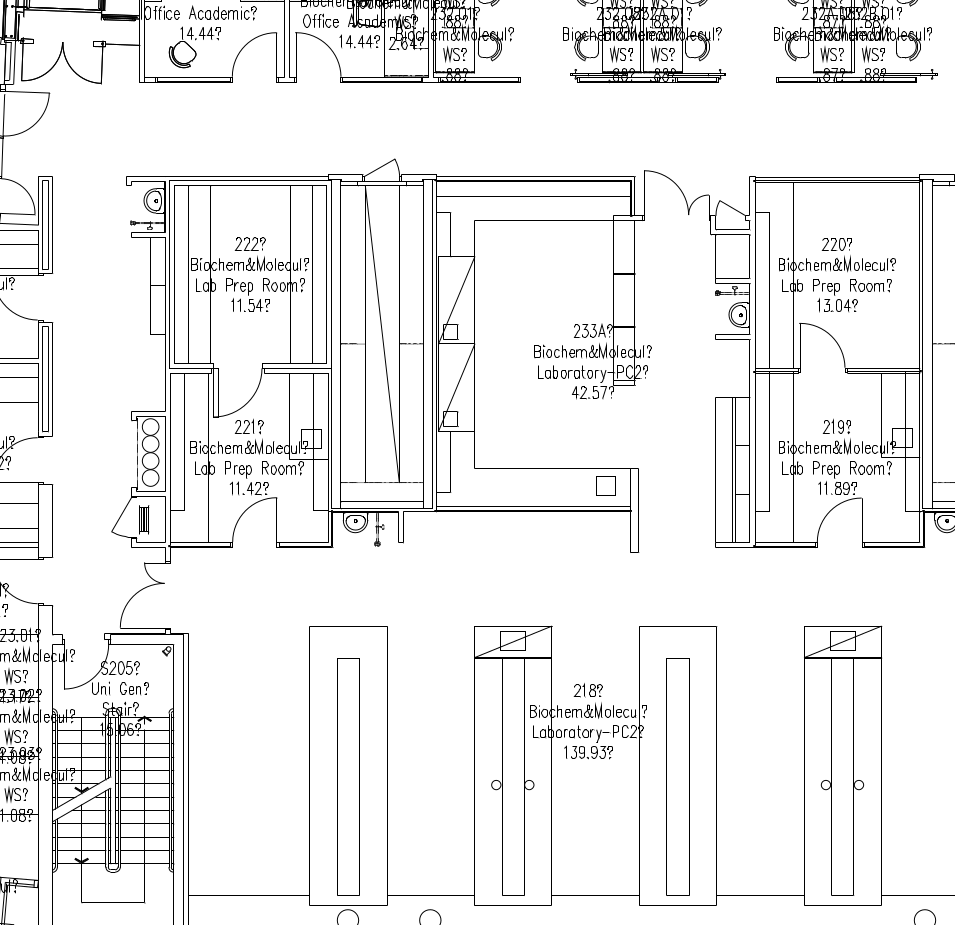door: (18, 35, 109, 91), (637, 166, 715, 224), (112, 558, 169, 632), (224, 26, 279, 84), (288, 29, 343, 87), (212, 365, 268, 420), (223, 491, 279, 546), (1, 86, 53, 143), (55, 645, 113, 696), (814, 496, 865, 549), (797, 321, 848, 374), (1, 169, 37, 222)
